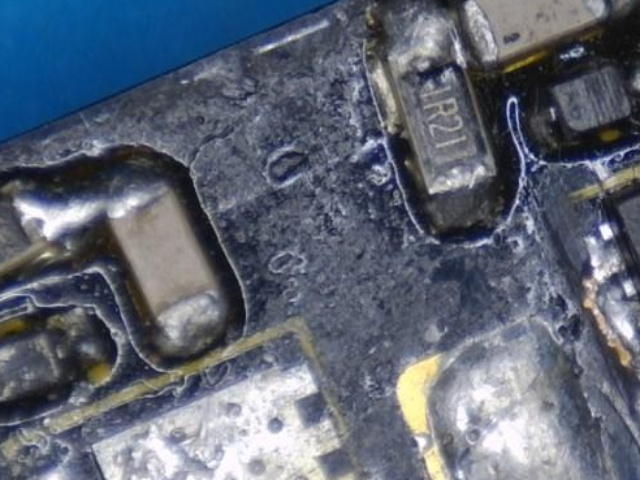pcb_defect: (397, 221, 640, 480), (10, 159, 171, 256)
